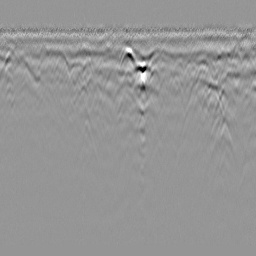cavity: (118, 44, 138, 71)
